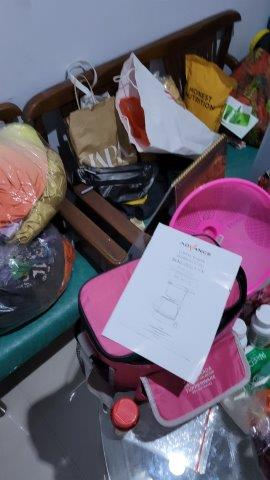kertas: (99, 223, 242, 384)
